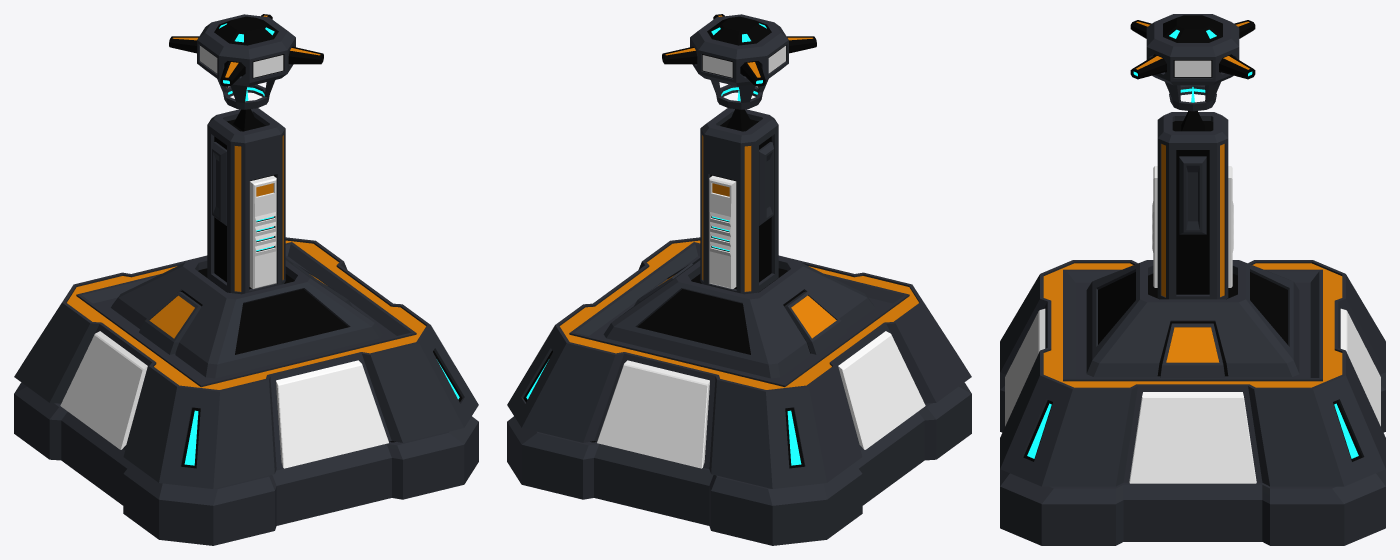
The model's file is SM_Turret_DroneHub.fbx.
The picture shows the model from 3 angles, left to right: view 1: azimuth 30°, elevation 25°; view 2: azimuth 150°, elevation 25°; view 3: azimuth 270°, elevation 25°; orthographic projection. The views are drawn at different scales.
Parts seen in each view (by area): view 1: SM_Turret_DroneHub, SM_Turret_DroneHub_Base.001, SM_Turret_DroneHub_Base.002, SM_Turret_DroneHub_Drone; view 2: SM_Turret_DroneHub, SM_Turret_DroneHub_Base.001, SM_Turret_DroneHub_Base.002, SM_Turret_DroneHub_Drone; view 3: SM_Turret_DroneHub, SM_Turret_DroneHub_Base.001, SM_Turret_DroneHub_Base.002, SM_Turret_DroneHub_Drone.
Part boxes in pixels (left/top/right/bottom): SM_Turret_DroneHub: left=14, top=237, right=478, bottom=545; SM_Turret_DroneHub_Base.001: left=111, top=257, right=382, bottom=378; SM_Turret_DroneHub_Base.002: left=207, top=88, right=285, bottom=294; SM_Turret_DroneHub_Drone: left=169, top=14, right=323, bottom=109; SM_Turret_DroneHub: left=507, top=237, right=971, bottom=545; SM_Turret_DroneHub_Base.001: left=603, top=257, right=874, bottom=378; SM_Turret_DroneHub_Base.002: left=700, top=88, right=778, bottom=294; SM_Turret_DroneHub_Drone: left=662, top=14, right=816, bottom=109; SM_Turret_DroneHub: left=1000, top=260, right=1385, bottom=545; SM_Turret_DroneHub_Base.001: left=1086, top=260, right=1299, bottom=377; SM_Turret_DroneHub_Base.002: left=1152, top=87, right=1233, bottom=299; SM_Turret_DroneHub_Drone: left=1130, top=14, right=1255, bottom=111.
Bounding box in the file's own units: 1 × 1.27 × 1.
